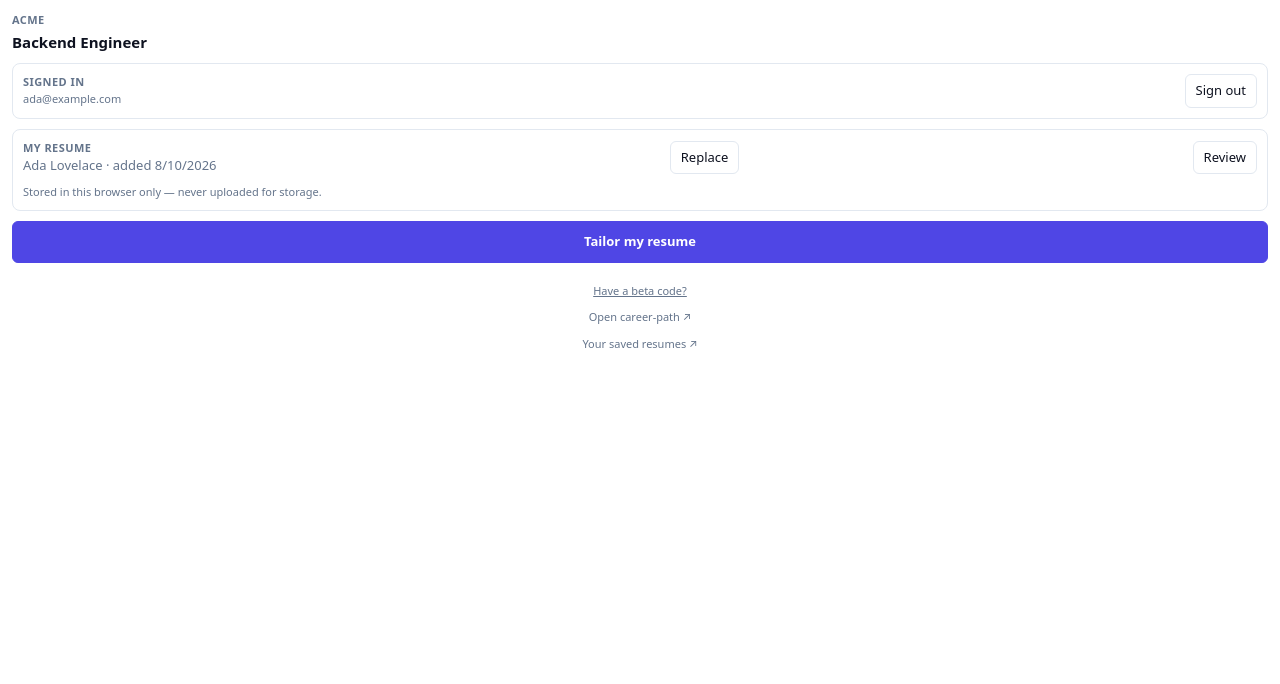
Scenario: App - saving a tailored resume from the panel › routes a session_expired save result to the sign-in-again CTA
Click the button "Tailor my resume" at (640, 242), box top-left (12, 221), bottom-right (1268, 262)
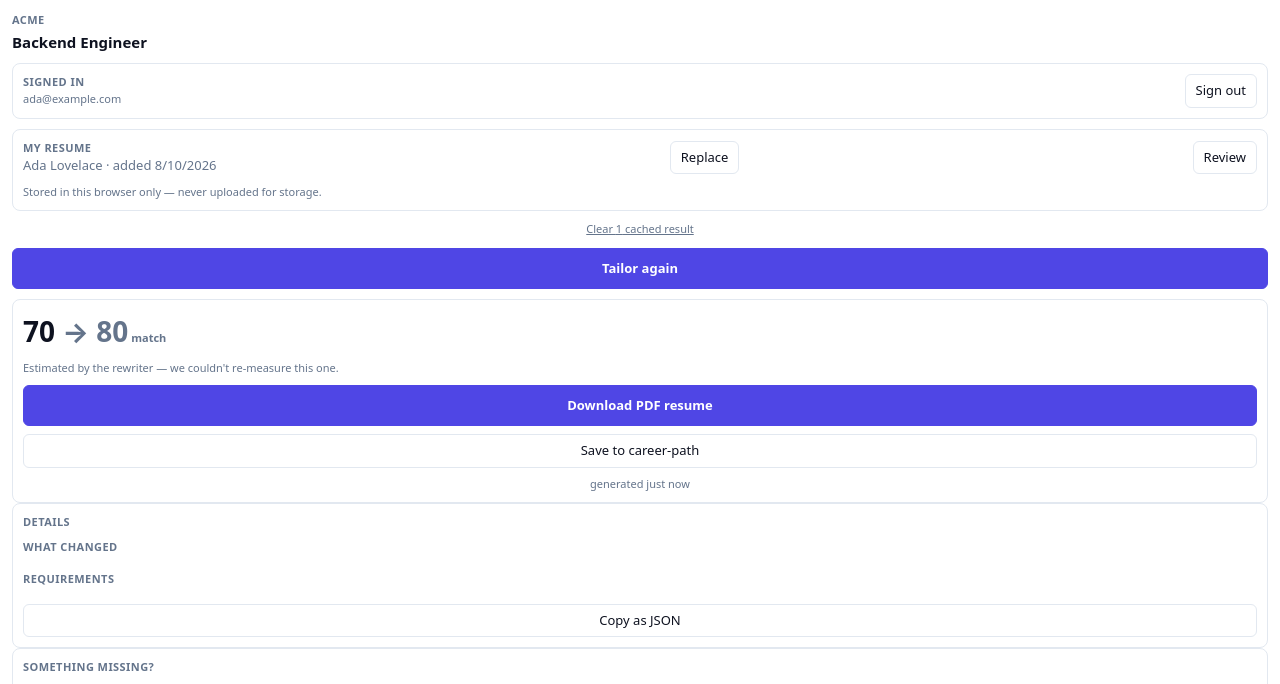
Click the button "Save to career-path" at (640, 451), box top-left (23, 434), bottom-right (1257, 468)
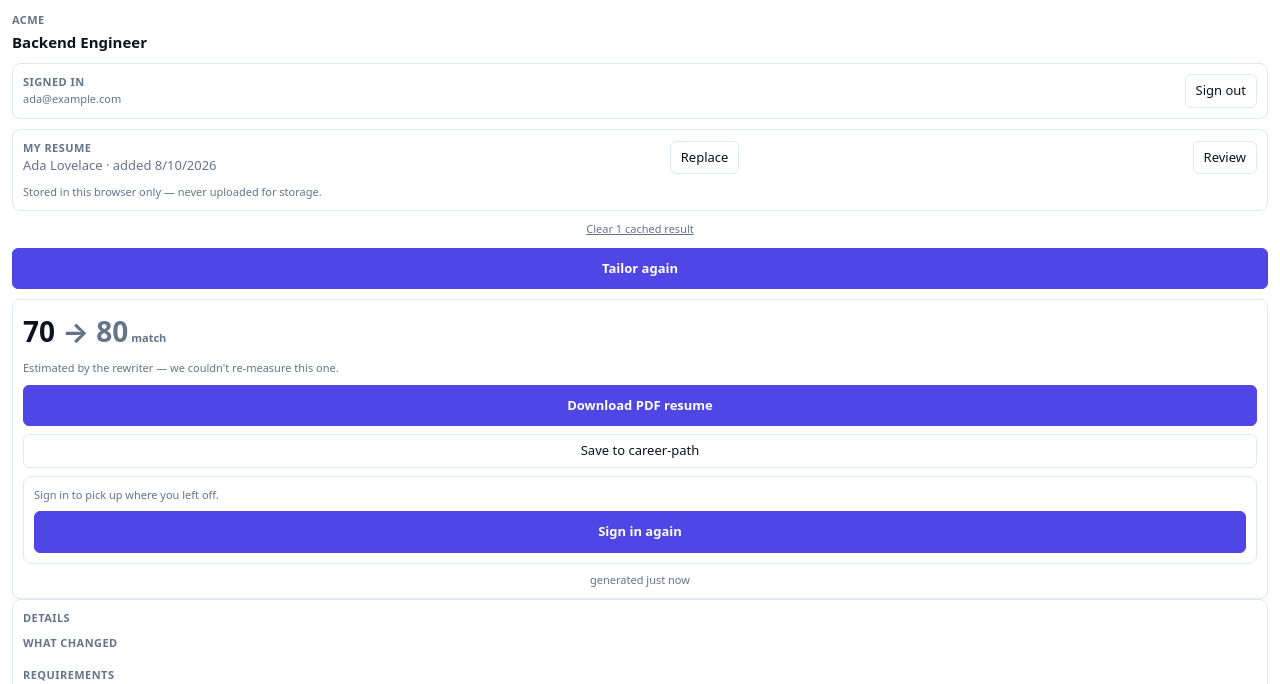
Result: the text "Sign in to pick up where you left off." is shown at top-left (34, 486), bottom-right (219, 502)
